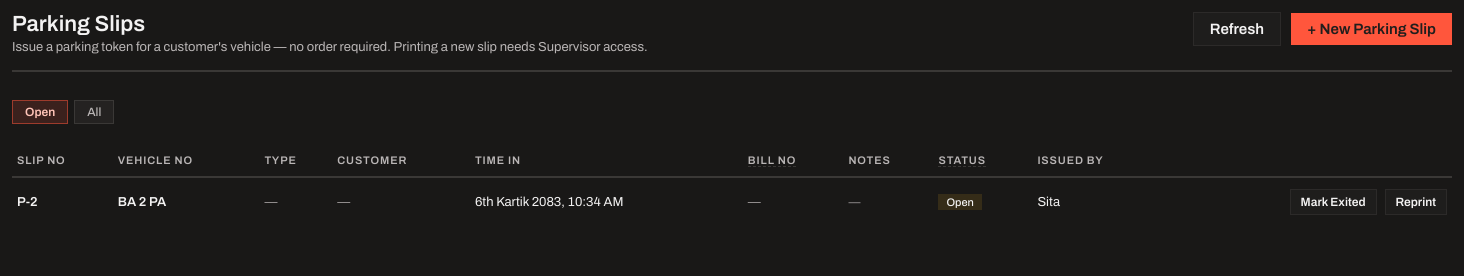
Test: Mark Exited takes the slip off the Open list from the server's answer
Click the button "Mark Exited" at (1333, 202), box [1290,189,1377,215]
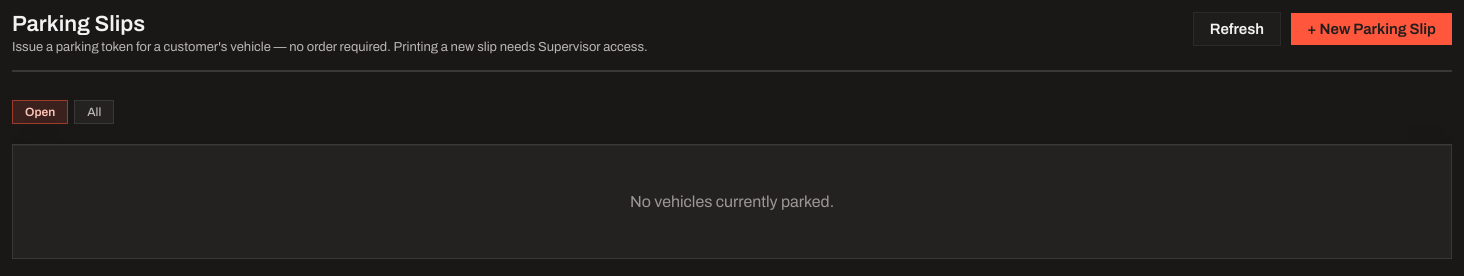
Now the text "No vehicles currently parked." is shown, box [12,144,1452,259]
